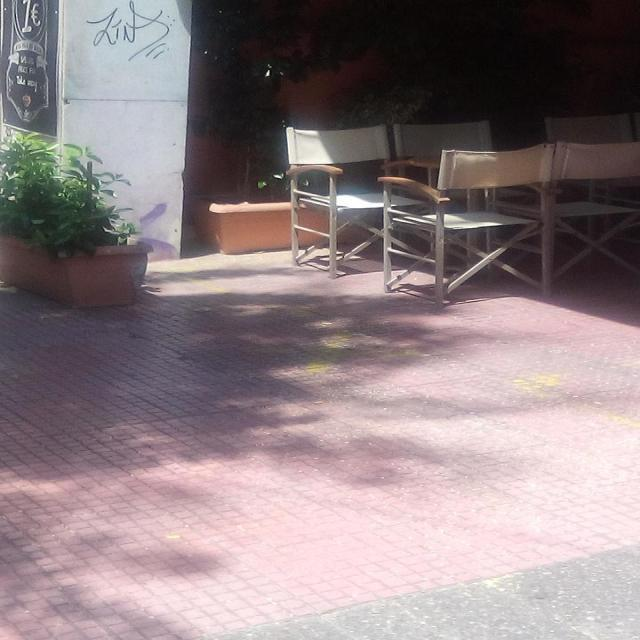nonspitting: (85, 2, 173, 62), (136, 201, 176, 258)
